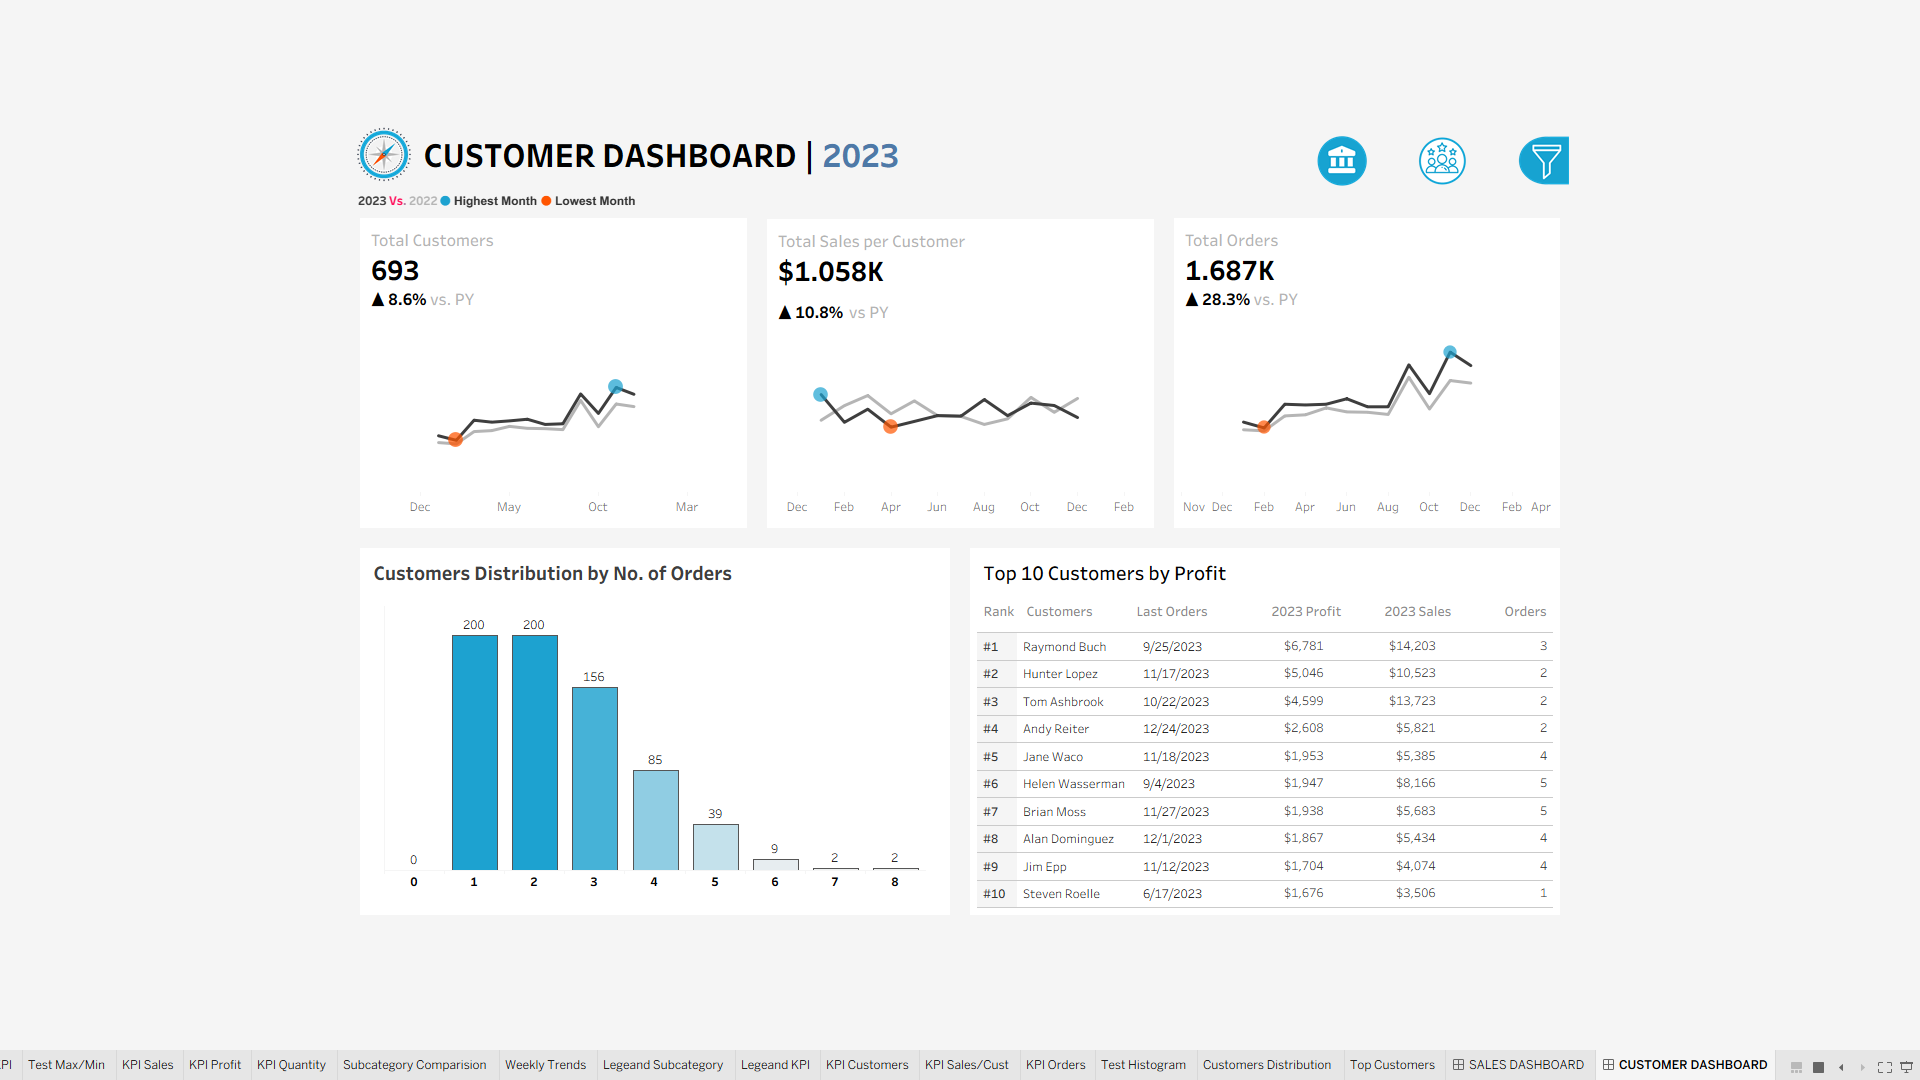

Layout of this report page (visuals, bound fields, positions):
{"tool":"tableau","page":{"name":"CUSTOMER DASHBOARD","canvas":[1220,800],"ordinal":0},"visuals":[{"type":"image","param":"Image/Icon - Logo.png","box":[0,0,67,59]},{"type":"text","box":[67,0,847,59]},{"type":"dashboard-object","box":[940,6,102,59]},{"type":"dashboard-object","box":[1042,6,101,59]},{"type":"blank","box":[965,10,243,72]},{"type":"worksheet","title":"Legeand KPI","mark":"Automatic","box":[0,59,1220,34]},{"type":"text","box":[965,82,243,34]},{"type":"worksheet","title":"KPI Customers","mark":"Line","rows":["min/max profit (copy)_0694392052809736"],"cols":["Order Date"],"box":[0,93,407,320]},{"type":"worksheet","title":"KPI Sales/Cust","mark":"Automatic","rows":["min/max sales (copy)_1500059643387908"],"cols":["Order Date"],"box":[407,93,407,320]},{"type":"worksheet","title":"KPI Orders","mark":"Automatic","rows":["min/max customers (copy)_1500059659382795"],"cols":["Order Date"],"box":[814,93,406,320]},{"type":"parameter","param":"[Parameters].[Parameter 1193295195852806]","box":[965,116,243,50.8]},{"type":"text","box":[965,166.8,243,29]},{"type":"filter","title":"KPI Customers","param":"[federated.1pjhcd91qhw5d313a3p4w0tm42kk].[none:Category:nk]","box":[965,195.8,243,50.8]},{"type":"filter","title":"KPI Customers","param":"[federated.1pjhcd91qhw5d313a3p4w0tm42kk].[none:Sub-Category:nk]","box":[965,246.6,243,50.8]},{"type":"blank","box":[965,297.4,243,55]},{"type":"text","box":[965,352.4,243,29]},{"type":"filter","title":"KPI Customers","param":"[federated.1pjhcd91qhw5d313a3p4w0tm42kk].[none:Region:nk]","box":[965,381.4,243,50.8]},{"type":"text","box":[17,430,576,34]},{"type":"text","box":[627,430,576,34]},{"type":"filter","title":"KPI Customers","param":"[federated.1pjhcd91qhw5d313a3p4w0tm42kk].[none:State:nk]","box":[965,432.3,243,50.8]},{"type":"worksheet","title":"Customers Distribution","mark":"Bar","rows":["CY Profit (copy)_0694392049287173"],"cols":["Calculation_1500059665453070"],"box":[17,464,576,319]},{"type":"worksheet","title":"Top Customers","mark":"Automatic","rows":["Calculation_1500059671011346","Customer Name","Order Date"],"box":[627,464,576,319]},{"type":"filter","title":"KPI Customers","param":"[federated.1pjhcd91qhw5d313a3p4w0tm42kk].[none:City:nk]","box":[965,483.1,243,50.8]},{"type":"legend","title":"KPI Customers","param":"[federated.1pjhcd91qhw5d313a3p4w0tm42kk].[:Measure Names]","box":[965,533.9,243,50.8]},{"type":"legend","title":"KPI Customers","param":"[federated.1pjhcd91qhw5d313a3p4w0tm42kk].[usr:min/max profit (copy)_069439205280","box":[965,584.7,243,50.8]},{"type":"legend","title":"KPI Sales/Cust","param":"[federated.1pjhcd91qhw5d313a3p4w0tm42kk].[usr:min/max sales (copy)_1500059643387","box":[965,635.5,243,50.8]},{"type":"legend","title":"KPI Orders","param":"[federated.1pjhcd91qhw5d313a3p4w0tm42kk].[usr:min/max customers (copy)_150005965","box":[965,686.3,243,50.8]},{"type":"legend","title":"Customers Distribution","param":"[federated.1pjhcd91qhw5d313a3p4w0tm42kk].[ctd:CY Profit (copy)_0694392049287173:","box":[965,737.2,243,50.8]}]}

Visuals, with their boxes on the page's 1220x800 design canvas (x1, y1, x2, y2). These are canvas units, not pixel positions in the 1920x1080 screenshot, which may show the page scaled, cropped or inside an application window:
image: {"x1": 0, "y1": 0, "x2": 67, "y2": 59}
text: {"x1": 67, "y1": 0, "x2": 914, "y2": 59}
dashboard-object: {"x1": 940, "y1": 6, "x2": 1042, "y2": 65}
dashboard-object: {"x1": 1042, "y1": 6, "x2": 1143, "y2": 65}
blank: {"x1": 965, "y1": 10, "x2": 1208, "y2": 82}
"Legeand KPI" worksheet: {"x1": 0, "y1": 59, "x2": 1220, "y2": 93}
text: {"x1": 965, "y1": 82, "x2": 1208, "y2": 116}
"KPI Customers" worksheet (Line marks): {"x1": 0, "y1": 93, "x2": 407, "y2": 413}
"KPI Sales/Cust" worksheet: {"x1": 407, "y1": 93, "x2": 814, "y2": 413}
"KPI Orders" worksheet: {"x1": 814, "y1": 93, "x2": 1220, "y2": 413}
parameter: {"x1": 965, "y1": 116, "x2": 1208, "y2": 167}
text: {"x1": 965, "y1": 167, "x2": 1208, "y2": 196}
"KPI Customers" filter: {"x1": 965, "y1": 196, "x2": 1208, "y2": 247}
"KPI Customers" filter: {"x1": 965, "y1": 247, "x2": 1208, "y2": 297}
blank: {"x1": 965, "y1": 297, "x2": 1208, "y2": 352}
text: {"x1": 965, "y1": 352, "x2": 1208, "y2": 381}
"KPI Customers" filter: {"x1": 965, "y1": 381, "x2": 1208, "y2": 432}
text: {"x1": 17, "y1": 430, "x2": 593, "y2": 464}
text: {"x1": 627, "y1": 430, "x2": 1203, "y2": 464}
"KPI Customers" filter: {"x1": 965, "y1": 432, "x2": 1208, "y2": 483}
"Customers Distribution" worksheet (Bar marks): {"x1": 17, "y1": 464, "x2": 593, "y2": 783}
"Top Customers" worksheet: {"x1": 627, "y1": 464, "x2": 1203, "y2": 783}
"KPI Customers" filter: {"x1": 965, "y1": 483, "x2": 1208, "y2": 534}
"KPI Customers" legend: {"x1": 965, "y1": 534, "x2": 1208, "y2": 585}
"KPI Customers" legend: {"x1": 965, "y1": 585, "x2": 1208, "y2": 636}
"KPI Sales/Cust" legend: {"x1": 965, "y1": 636, "x2": 1208, "y2": 686}
"KPI Orders" legend: {"x1": 965, "y1": 686, "x2": 1208, "y2": 737}
"Customers Distribution" legend: {"x1": 965, "y1": 737, "x2": 1208, "y2": 788}
